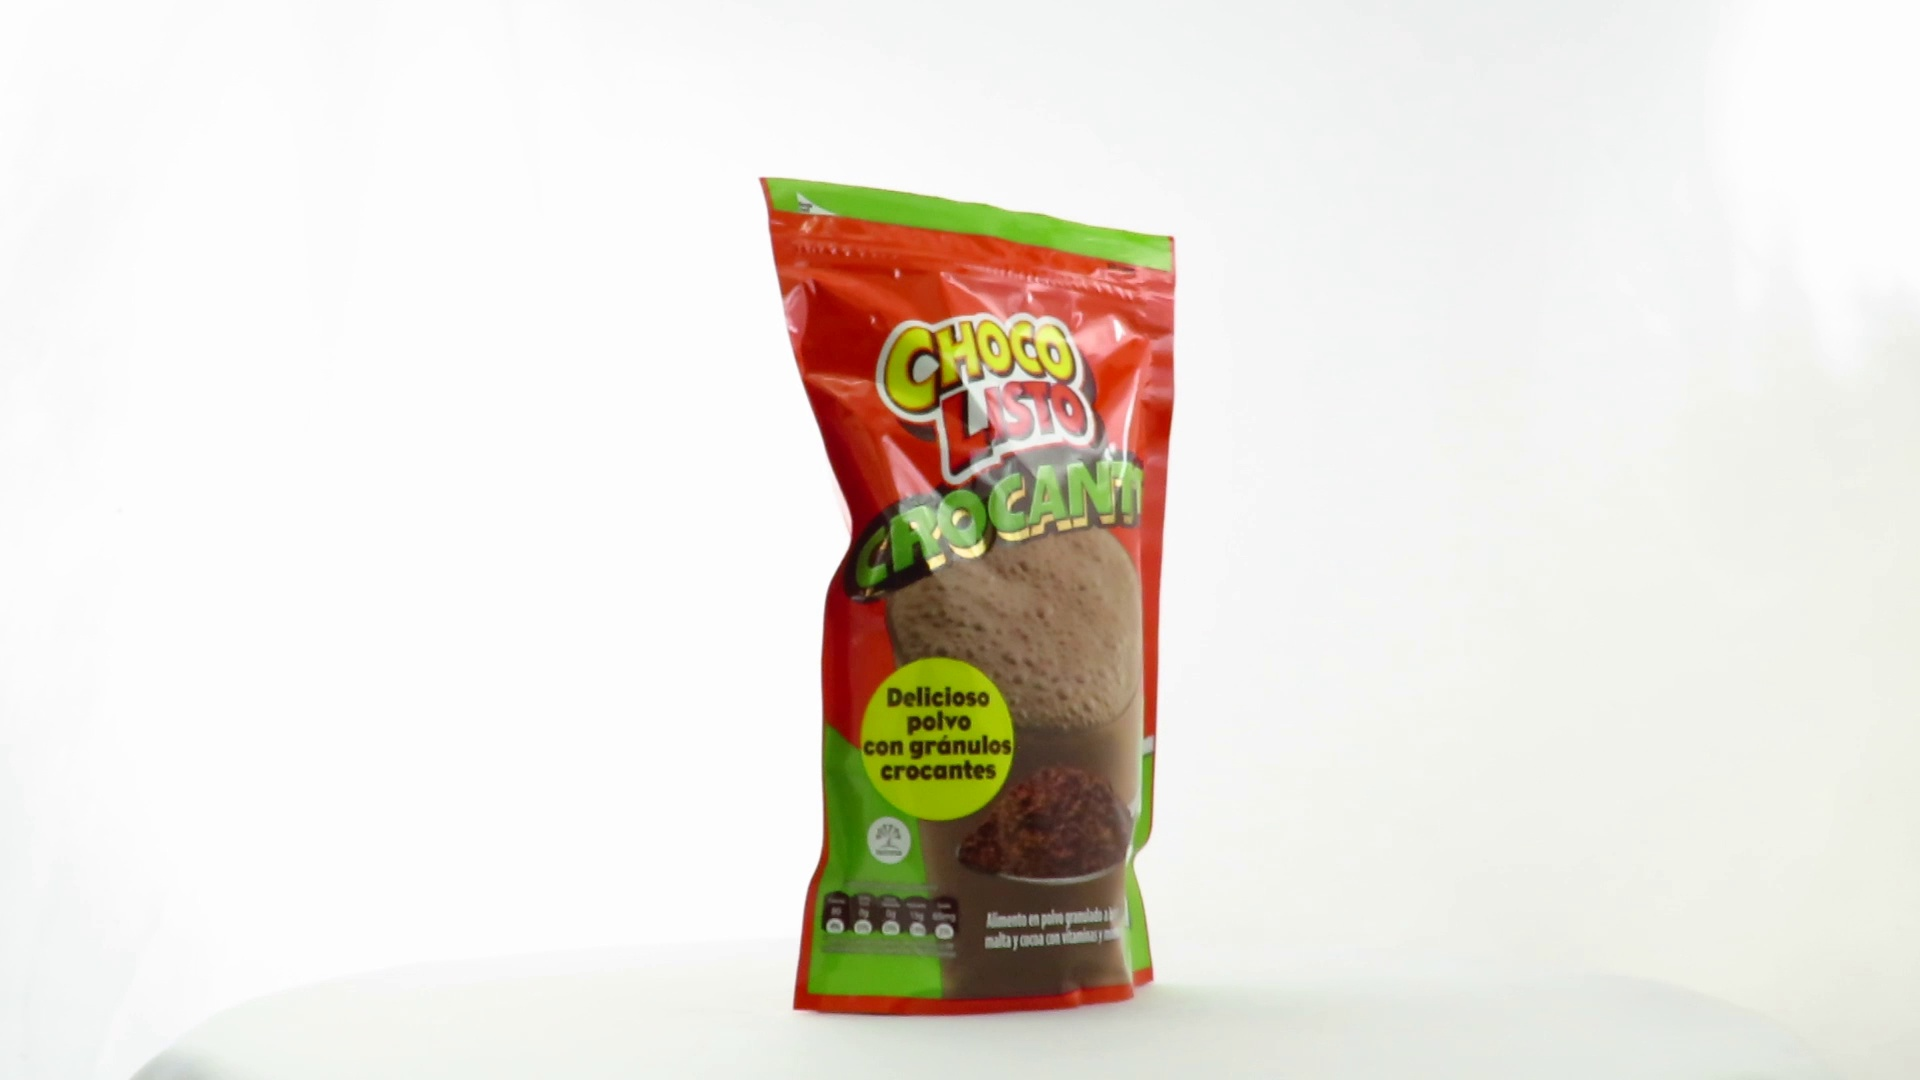COL0170102DYP50000: (754, 171, 1182, 1023)
